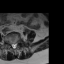CCS_normal: (13, 41, 15, 50)
LFS_normal: (17, 39, 19, 45)
LLS_normal: (15, 40, 17, 49)
RFS_severe_stenosis: (9, 40, 11, 47)
RLS_normal: (11, 41, 13, 49)
